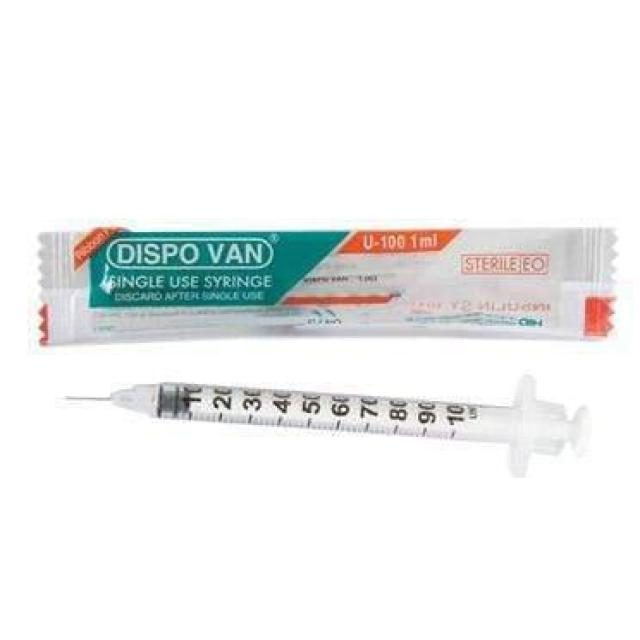B3: (125, 370, 604, 488), (55, 379, 134, 415)
